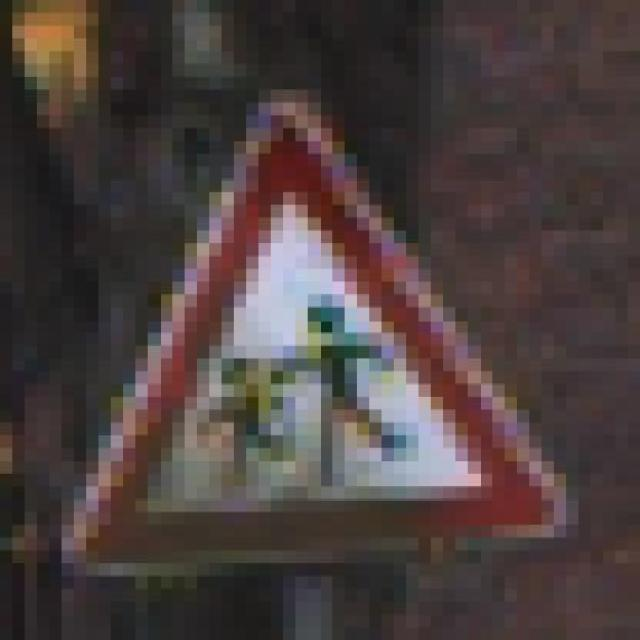Beware of children: (49, 81, 566, 582)
